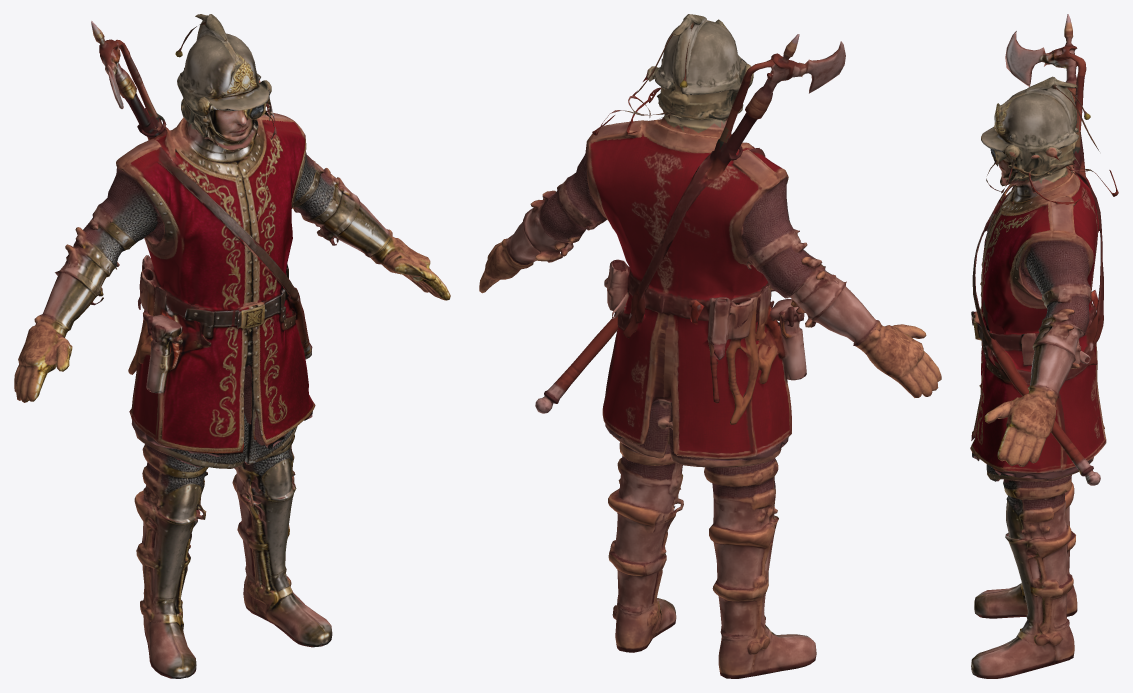
Rendered from royal-guard_body.glb.
The picture shows the model from 3 angles, left to right: view 1: azimuth 30°, elevation 25°; view 2: azimuth 150°, elevation 25°; view 3: azimuth 270°, elevation 25°; orthographic projection. The views are drawn at different scales.
Visible parts, largest first — view 1: royal-guard; view 2: royal-guard; view 3: royal-guard.
Part boxes in pixels (x1,y1,x2,y2): royal-guard: [14, 14, 450, 678]; royal-guard: [479, 14, 941, 678]; royal-guard: [970, 14, 1118, 678].
Size of the model in its own units: 1.31 by 1.85 by 0.4305.
2 materials, 2 textured.
